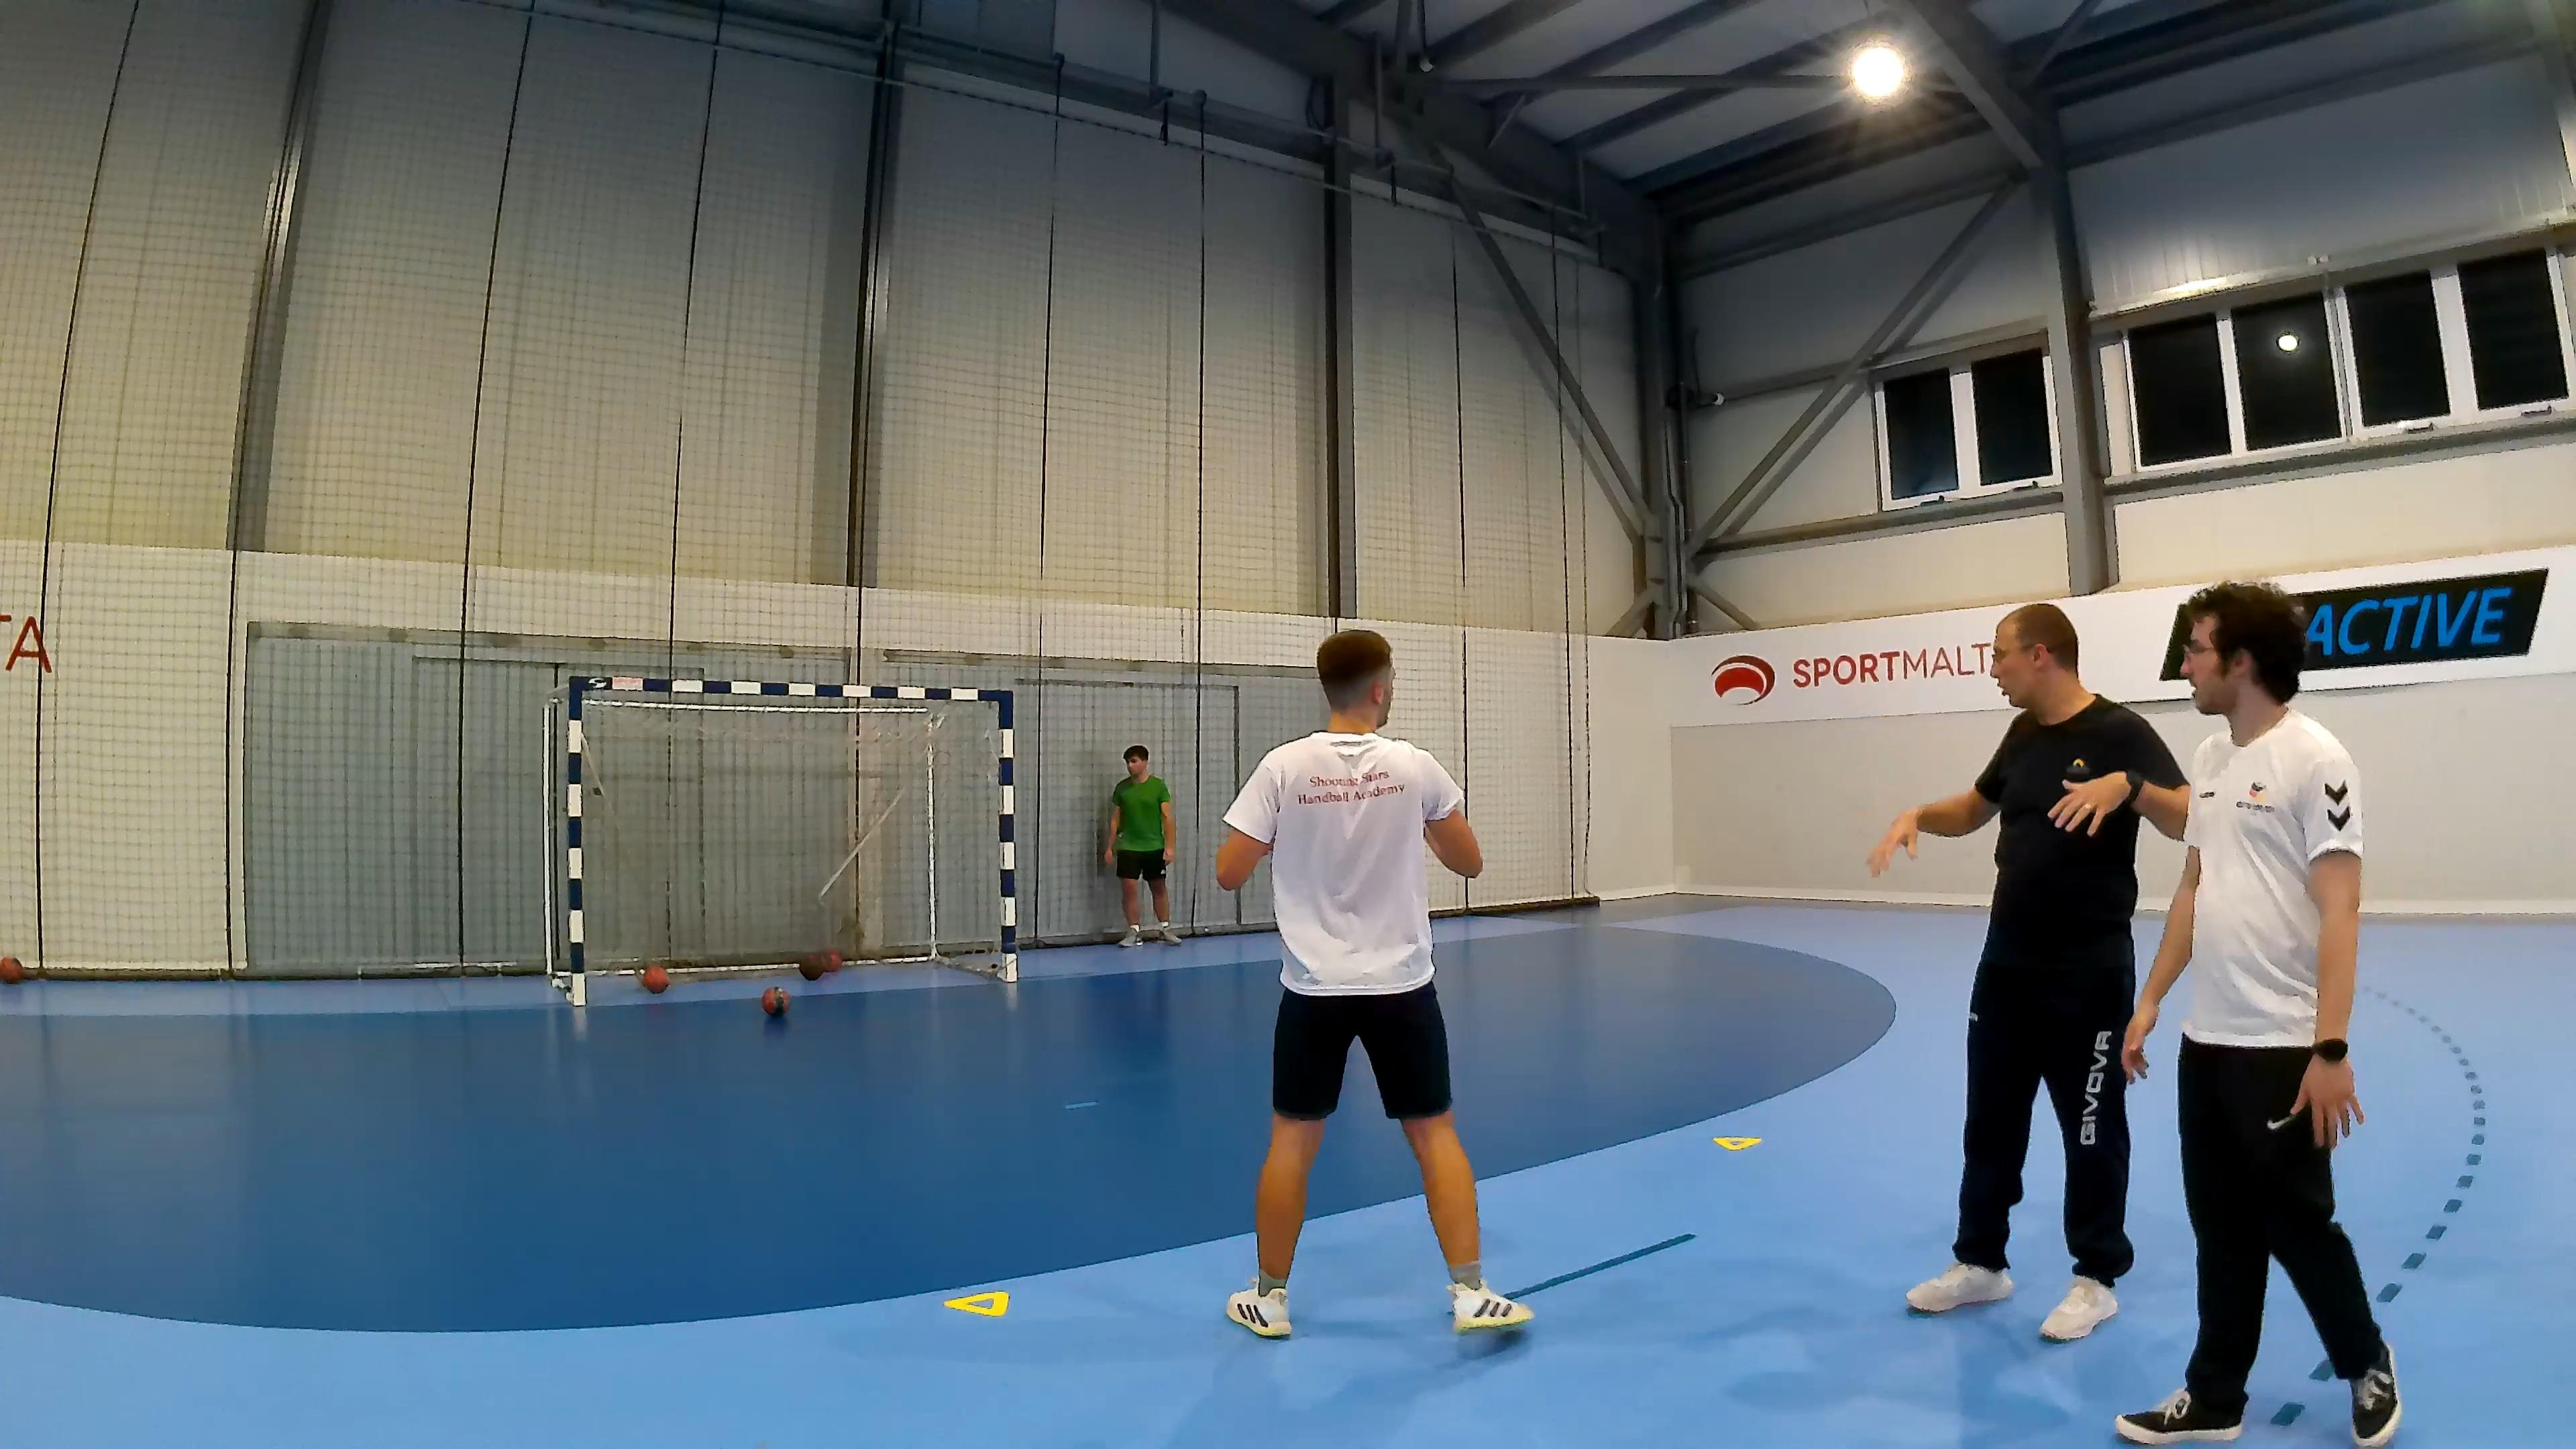handball: (798, 945, 828, 987), (761, 985, 789, 1016), (640, 962, 669, 993)
